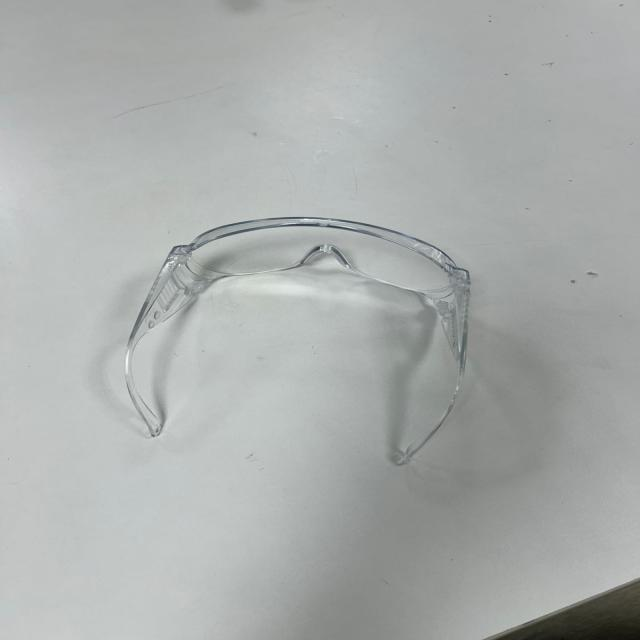oculos-epi: (118, 214, 473, 466)
